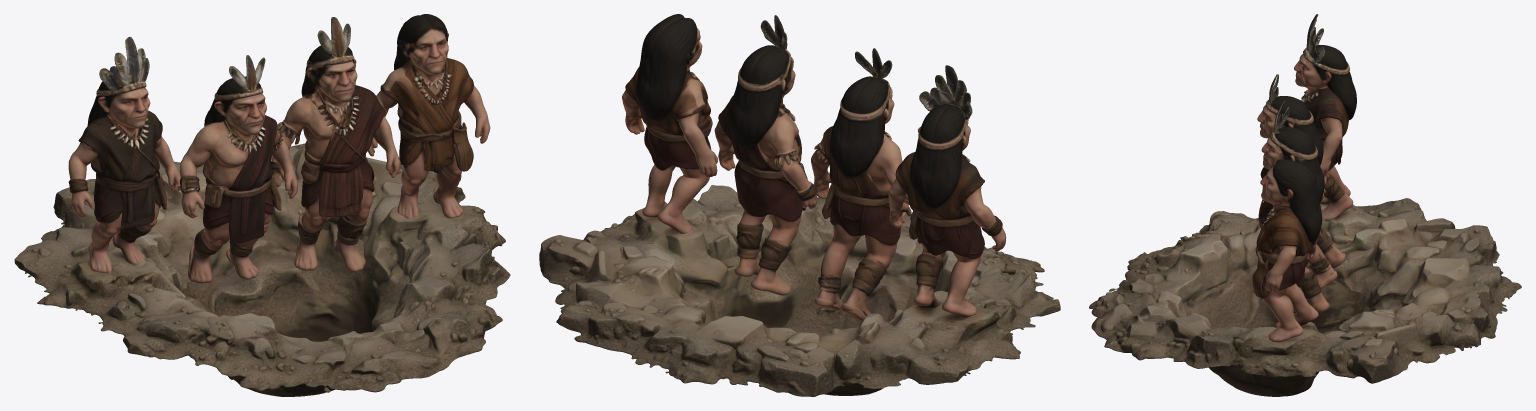
File: 67-los-chibchas-de-la-peña-sanabria-optimized.glb
3 renders of one model, left to right at view 1: azimuth 30°, elevation 25°; view 2: azimuth 150°, elevation 25°; view 3: azimuth 270°, elevation 25°, orthographic. The views are drawn at different scales.
Parts seen in each view (by area): view 1: tripo_node_8c1b9b9f-f55e-4b11-80b6-d1397271e5a7; view 2: tripo_node_8c1b9b9f-f55e-4b11-80b6-d1397271e5a7; view 3: tripo_node_8c1b9b9f-f55e-4b11-80b6-d1397271e5a7.
Boxes of the visible parts, x1,y1,x2,y2 form: tripo_node_8c1b9b9f-f55e-4b11-80b6-d1397271e5a7: [14, 14, 510, 396]; tripo_node_8c1b9b9f-f55e-4b11-80b6-d1397271e5a7: [539, 14, 1060, 396]; tripo_node_8c1b9b9f-f55e-4b11-80b6-d1397271e5a7: [1089, 14, 1521, 396].
Bounding box in the file's own units: 1 × 0.7562 × 0.9866.
1 material, 1 textured.
